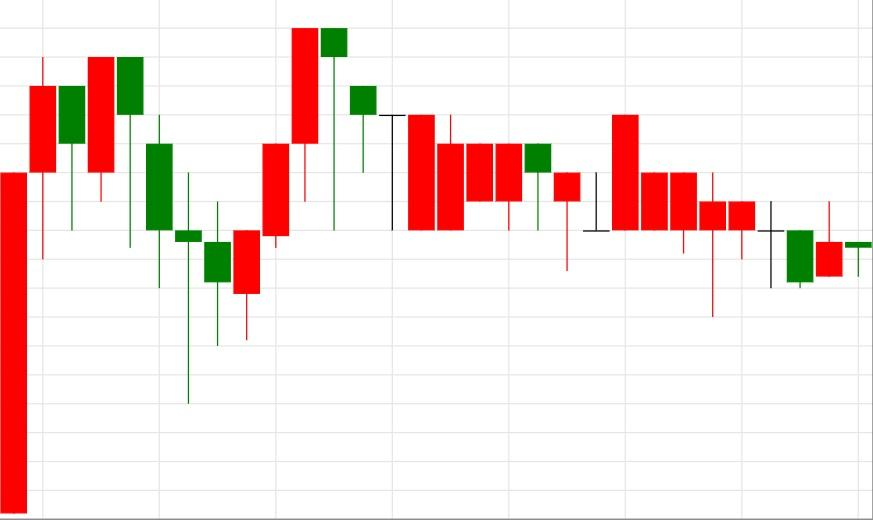hanging_man_fall: (204, 27, 349, 346)
three_white_soldiers_rise: (117, 27, 320, 404)
